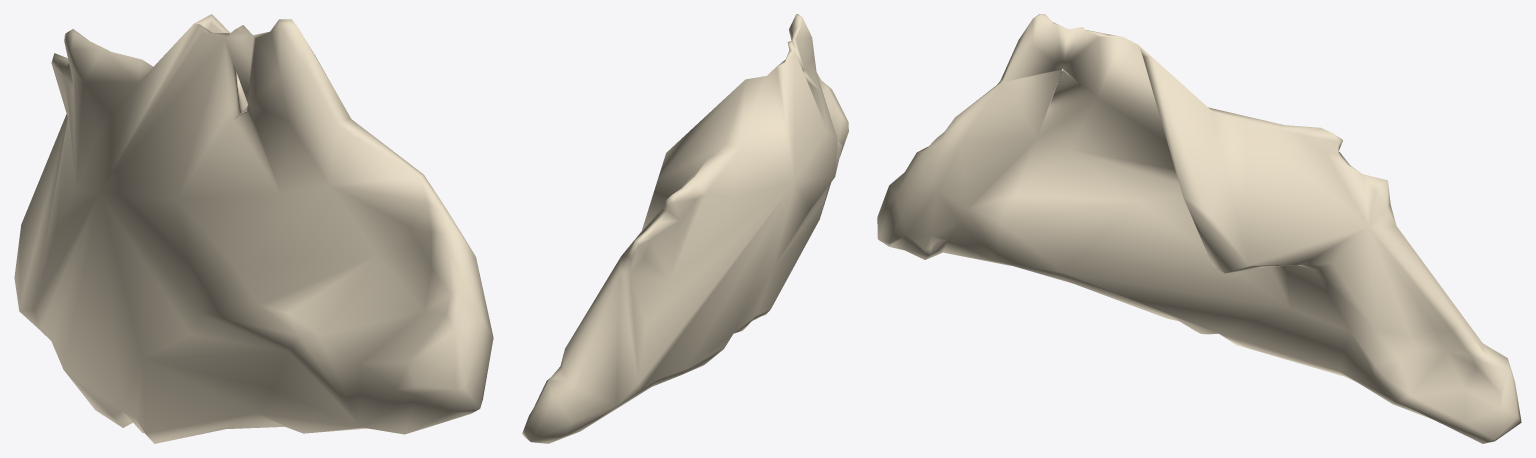
The model's file is inferior-nasal-concha-bone-l.glb.
The picture shows the model from 3 angles, left to right: view 1: azimuth 30°, elevation 25°; view 2: azimuth 150°, elevation 25°; view 3: azimuth 270°, elevation 25°; orthographic projection. The views are drawn at different scales.
Parts seen in each view (by area): view 1: Inferior nasal concha bone.l; view 2: Inferior nasal concha bone.l; view 3: Inferior nasal concha bone.l.
Part boxes in pixels (x1=…): Inferior nasal concha bone.l: x1=14, y1=14, x2=493, y2=443; Inferior nasal concha bone.l: x1=522, y1=14, x2=848, y2=443; Inferior nasal concha bone.l: x1=877, y1=14, x2=1521, y2=443.
Size of the model in its own units: 0.0105 by 0.0225 by 0.0346.
